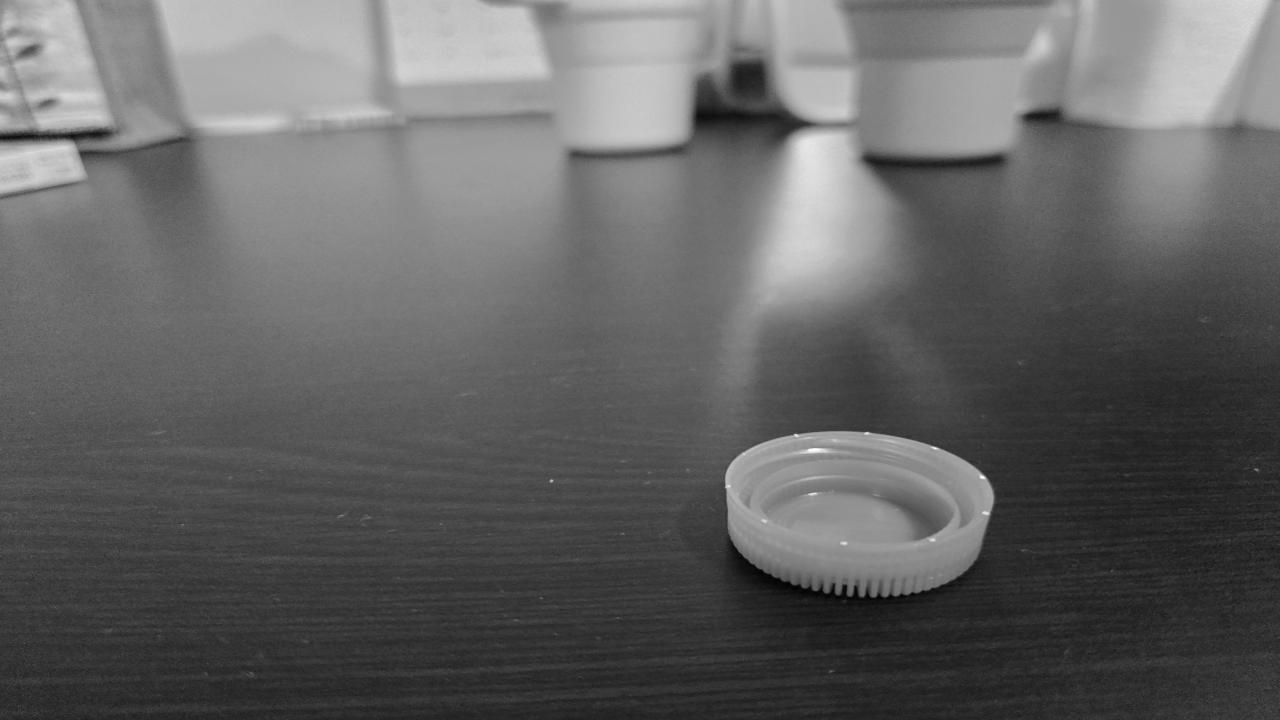bottle_cap: (717, 428, 1003, 598)
